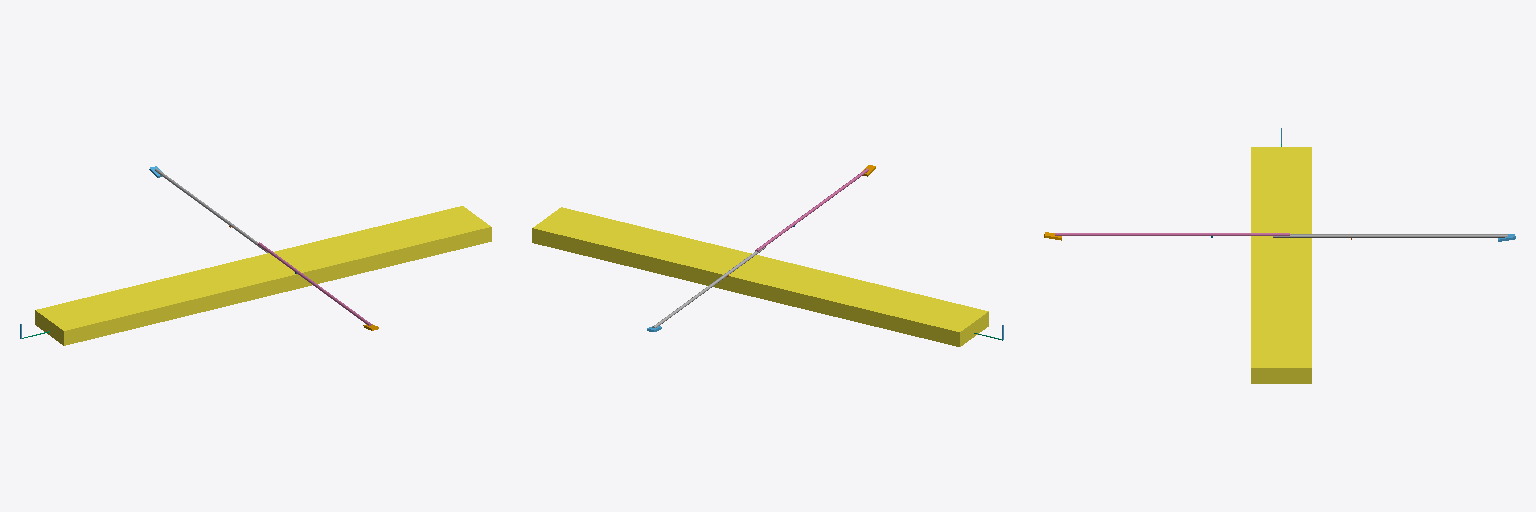
robot.urdf — myboat:
<?xml version="1.0" encoding="utf-8"?>
<!-- =================================================================================== -->
<!-- |    This document was autogenerated by xacro from boot1.xacro                    | -->
<!-- |    EDITING THIS FILE BY HAND IS NOT RECOMMENDED                                 | -->
<!-- =================================================================================== -->
<robot name="myboat" xmlns:xacro="http://www.ros.org/wiki/xacro">
  <!-- Constants for robot dimensions -->
  <gazebo>
    <self_collide>1</self_collide>
  </gazebo>
  <!-- ros_control plugin -->
  <gazebo>
    <plugin filename="libgazebo_ros_control.so" name="gazebo_ros_control">
      <robotNamespace>/boot1</robotNamespace>
      <robotSimType>gazebo_ros_control/DefaultRobotHWSim</robotSimType>
    </plugin>
    <plugin filename="libgazebo_ros_ft_sensor.so" name="sb_rl_sensor">
      <updateRate>10.0</updateRate>
      <topicName>sb_rl_sensor</topicName>
      <jointName>starboard_rowlock</jointName>
    </plugin>
    <plugin filename="libgazebo_ros_ft_sensor.so" name="p_rl_sensor">
      <updateRate>10.0</updateRate>
      <topicName>p_rl_sensor</topicName>
      <jointName>port_rowlock</jointName>
    </plugin>
    <plugin filename="libgazebo_ros_ft_sensor.so" name="sb_oar_sensor">
      <updateRate>10.0</updateRate>
      <topicName>sb_oar_sensor</topicName>
      <jointName>starboard_oar</jointName>
    </plugin>
    <plugin filename="libgazebo_ros_ft_sensor.so" name="p_oar_sensor">
      <updateRate>10.0</updateRate>
      <topicName>p_oar_sensor</topicName>
      <jointName>port_oar</jointName>
      <noise>
        <type>gaussian</type>
        <mean>0.0</mean>
        <stddev>0.003</stddev>
        <!-- change this to simulate noise -->
      </noise>
    </plugin>
    <plugin filename="libgazebo_ros_ft_sensor.so" name="sbb_sensor">
      <updateRate>10.0</updateRate>
      <topicName>sbb_sensor</topicName>
      <jointName>starboard_blade</jointName>
    </plugin>
    <plugin filename="libgazebo_ros_ft_sensor.so" name="pb_sensor">
      <updateRate>10.0</updateRate>
      <topicName>pb_sensor</topicName>
      <jointName>port_blade</jointName>
    </plugin>
  </gazebo>
  <gazebo reference="starboard_rowlock">
    <provideFeedback>true</provideFeedback>
  </gazebo>
  <gazebo reference="port_rowlock">
    <provideFeedback>true</provideFeedback>
  </gazebo>
  <gazebo reference="starboard_oar">
    <provideFeedback>true</provideFeedback>
  </gazebo>
  <gazebo reference="port_oar">
    <provideFeedback>true</provideFeedback>
  </gazebo>
  <gazebo reference="starboard_blade">
    <provideFeedback>true</provideFeedback>
  </gazebo>
  <gazebo reference="port_blade">
    <provideFeedback>true</provideFeedback>
  </gazebo>
  <gazebo reference="skiff">
    <material>Gazebo/Grey</material>
    <mu1>0.01</mu1>
    <mu2>0.01</mu2>
  </gazebo>
  <gazebo reference="starboard_rowlock_l">
    <mu1>0.01</mu1>
    <mu2>0.01</mu2>
    <material>Gazebo/Green</material>
  </gazebo>
  <gazebo reference="port_rowlock_l">
    <mu1>0.01</mu1>
    <mu2>0.01</mu2>
    <material>Gazebo/Red</material>
    <provideFeedback>true</provideFeedback>
  </gazebo>
  <gazebo reference="starboard_oar_l">
    <mu1>0.01</mu1>
    <mu2>0.01</mu2>
    <material>Gazebo/Green</material>
    <provideFeedback>true</provideFeedback>
  </gazebo>
  <gazebo reference="port_oar_l">
    <mu1>0.01</mu1>
    <mu2>0.01</mu2>
    <material>Gazebo/Green</material>
    <provideFeedback>true</provideFeedback>
  </gazebo>
  <gazebo reference="starboard_blade_l">
    <mu1>10.0</mu1>
    <mu2>10.0</mu2>
    <material>Gazebo/Green</material>
    <provideFeedback>true</provideFeedback>
  </gazebo>
  <gazebo reference="port_blade_l">
    <mu1>10.0</mu1>
    <mu2>10.0</mu2>
    <material>Gazebo/Red</material>
    <provideFeedback>true</provideFeedback>
  </gazebo>
  <material name="black">
    <color rgba="0.0 0.0 0.0 1.0"/>
  </material>
  <material name="blue">
    <color rgba="0.0 0.0 0.8 1.0"/>
  </material>
  <material name="green">
    <color rgba="0.0 0.8 0.0 1.0"/>
  </material>
  <material name="grey">
    <color rgba="0.2 0.2 0.2 1.0"/>
  </material>
  <material name="orange">
    <color rgba="1.0 0.423529411765 0.0392156862745 1.0"/>
  </material>
  <material name="brown">
    <color rgba="0.870588235294 0.811764705882 0.764705882353 1.0"/>
  </material>
  <material name="red">
    <color rgba="0.8 0.0 0.0 1.0"/>
  </material>
  <material name="white">
    <color rgba="1.0 1.0 1.0 1.0"/>
  </material>
  <joint name="prism" type="prismatic">
    <parent link="world"/>
    <child link="l1"/>
    <origin rpy="0 0 0" xyz="0 0 0.25"/>
    <axis xyz="1 0 0"/>
    <limit effort="1000.0" lower="-1000" upper="1000" velocity="0.5"/>
  </joint>
  <joint name="rev1" type="revolute">
    <parent link="l1"/>
    <child link="l2"/>
    <origin rpy="0 1.57079632679 0" xyz="0.0 0 -0.2"/>
    <axis xyz="0 1 0"/>
    <limit effort="1000.0" lower="-1" upper="1" velocity="1.0"/>
  </joint>
  <joint name="rev2" type="revolute">
    <parent link="l2"/>
    <child link="skiff"/>
    <origin rpy="3.14159265359 1.57079632679 0" xyz="0.0 0.0 0.4"/>
    <axis xyz="0 1 0"/>
    <limit effort="1000.0" lower="-1" upper="1" velocity="1.0"/>
  </joint>
  <joint name="starboard_rowlock" type="revolute">
    <parent link="skiff"/>
    <child link="starboard_rowlock_l"/>
    <origin rpy="0.0  0.0 0.0" xyz="-3 0.8 0.42"/>
    <axis xyz="0 0 1"/>
    <limit effort="1000.0" lower="-1.4" upper="1.4" velocity="1.0"/>
  </joint>
  <joint name="port_rowlock" type="revolute">
    <parent link="skiff"/>
    <child link="port_rowlock_l"/>
    <origin rpy="0.0  0.0 0.0" xyz="-3 -0.8 0.4"/>
    <axis xyz="0 0 1"/>
    <limit effort="1000.0" lower="-1.4" upper="1.4" velocity="1.0"/>
  </joint>
  <joint name="starboard_oar" type="revolute">
    <parent link="starboard_rowlock_l"/>
    <child link="starboard_oar_l"/>
    <origin rpy="0.0  1.57079632679 -1.57079632679" xyz="0.0 0.0   0.02"/>
    <axis xyz="0 1 0"/>
    <limit effort="1000.0" lower="-0.4" upper="0.0" velocity="1.0"/>
  </joint>
  <joint name="port_oar" type="revolute">
    <parent link="port_rowlock_l"/>
    <child link="port_oar_l"/>
    <origin rpy="0.0  1.57079632679 -1.57079632679" xyz="0.0 0.0   0.02"/>
    <axis xyz="0 1 0"/>
    <limit effort="1000.0" lower="0.0" upper="0.4" velocity="1.0"/>
  </joint>
  <joint name="starboard_blade" type="revolute">
    <parent link="starboard_oar_l"/>
    <child link="starboard_blade_l"/>
    <origin rpy="0 0  0.0" xyz="0.0 0.0   -1.8"/>
    <axis xyz="0 1 0"/>
    <limit effort="1000.0" lower="-0.4" upper="0.4" velocity="1.0"/>
  </joint>
  <joint name="port_blade" type="revolute">
    <parent link="port_oar_l"/>
    <child link="port_blade_l"/>
    <origin rpy="0.0  0 0.0" xyz="0.0 0.0   1.8"/>
    <axis xyz="0 1 0"/>
    <limit effort="1000.0" lower="-0.4" upper="0.4" velocity="1.0"/>
  </joint>
  <link name="world"/>
  <link name="l1">
    <inertial>
      <mass value="0.01"/>
      <origin rpy="0 0 0" xyz="0 0.0 -0.1"/>
      <inertia ixx="0.006" ixy="0" ixz="0" iyy="0.1" iyz="0" izz="0.1"/>
    </inertial>
    <visual>
      <origin rpy="0 0 0" xyz="0.0 0.0 -0.1"/>
      <geometry>
        <box size="0.01 0.01 0.20"/>
      </geometry>
    </visual>
  </link>
  <link name="l2">
    <inertial>
      <mass value="0.01"/>
      <origin rpy="0 0 0" xyz="0 0.0 0.2"/>
      <inertia ixx="0.006" ixy="0" ixz="0" iyy="0.1" iyz="0" izz="0.1"/>
    </inertial>
    <visual>
      <origin rpy="0 0 0" xyz="0.0 0.0 0.2"/>
      <geometry>
        <box size="0.01 0.01 0.40"/>
      </geometry>
    </visual>
  </link>
  <link name="skiff">
    <inertial>
      <mass value="75"/>
      <!-- 15 + 60 voor de roeier -->
      <origin rpy="0 0 0" xyz="-3 0.0 0.05"/>
      <inertia ixx="3.2" ixy="0" ixz="0" iyy="54.2" iyz="0" izz="57"/>
      <!--      <inertia ixx="0.6" ixy="0" ixz="0" iyy="11" iyz="0" izz="11.8"/>  -->
    </inertial>
    <collision>
      <origin rpy="0 0 0" xyz="-3 0.0   0.05"/>
      <geometry>
        <box size="6.0 0.7 0.2"/>
      </geometry>
    </collision>
    <visual>
      <!-- should be a nice skull shape including riggers-->
      <origin rpy="0 0 0" xyz="-3 0.0   0.05"/>
      <geometry>
        <box size="6.0 0.7 0.2"/>
      </geometry>
    </visual>
  </link>
  <link name="starboard_rowlock_l">
    <inertial>
      <mass value="0.1"/>
      <origin rpy="0 0 0" xyz="0.0 0.0 0.0"/>
      <inertia ixx="0.000017" ixy="0" ixz="0" iyy="0.000017" iyz="0" izz="0.000007"/>
    </inertial>
    <collision>
      <origin rpy="0 0 0" xyz="0.0 0.0   0.0"/>
      <geometry>
        <box size="0.02 0.02 0.04"/>
      </geometry>
    </collision>
    <visual>
      <origin rpy="0 0 0" xyz="0.0 0.0   0.0"/>
      <geometry>
        <box size="0.02 0.02 0.04"/>
      </geometry>
    </visual>
  </link>
  <link name="port_rowlock_l">
    <inertial>
      <mass value="0.1"/>
      <origin rpy="0 0 0" xyz="0.0 0.0 0.0"/>
      <inertia ixx="0.000017" ixy="0" ixz="0" iyy="0.000017" iyz="0" izz="0.000007"/>
    </inertial>
    <collision>
      <origin rpy="0 0 0" xyz="0.0 0.0   0.0"/>
      <geometry>
        <box size="0.02 0.02 0.04"/>
      </geometry>
    </collision>
    <visual>
      <origin rpy="0 0 0" xyz="0.0 0.0   0.0"/>
      <geometry>
        <box size="0.02 0.02 0.04"/>
      </geometry>
    </visual>
  </link>
  <link name="starboard_oar_l">
    <inertial>
      <mass value="1.0"/>
      <origin rpy="0 0 0" xyz="0 0 -0.45"/>
      <inertia ixx="0.6" ixy="0" ixz="0" iyy="0.6" iyz="0" izz="0.001"/>
    </inertial>
    <collision>
      <origin rpy="0 0 0" xyz="0   0   -0.45"/>
      <geometry>
        <cylinder length="2.0" radius="0.02"/>
      </geometry>
    </collision>
    <visual>
      <origin rpy="0 0 0" xyz="0   0.0   -0.45"/>
      <geometry>
        <cylinder length="2.7" radius="0.02"/>
      </geometry>
    </visual>
  </link>
  <link name="port_oar_l">
    <inertial>
      <mass value="1.0"/>
      <origin rpy="0 0 0" xyz="0 0 0.45"/>
      <inertia ixx="0.6" ixy="0" ixz="0" iyy="0.6" iyz="0" izz="0.001"/>
    </inertial>
    <collision>
      <origin rpy="0 0 0" xyz="0   0   0.45"/>
      <geometry>
        <cylinder length="2.0" radius="0.02"/>
        <!-- 2.0 to prevent collissions  -->
      </geometry>
    </collision>
    <visual>
      <origin rpy="0 0 0" xyz="0   0   0.45"/>
      <geometry>
        <cylinder length="2.7" radius="0.02"/>
      </geometry>
    </visual>
  </link>
  <link name="starboard_blade_l">
    <inertial>
      <mass value="1.0"/>
      <origin rpy="0 -1.4 0" xyz="0.02 0 -0.02"/>
      <inertia ixx="0.0009" ixy="0" ixz="0" iyy="0.0034" iyz="0" izz="0.004"/>
    </inertial>
    <collision>
      <origin rpy="0 -1.4 0" xyz="0.02    0   -0.02"/>
      <geometry>
        <box size="0.2 0.1 0.03"/>
      </geometry>
    </collision>
    <visual>
      <origin rpy="0 -1.4 0" xyz="0.02    0   -0.02"/>
      <geometry>
        <box size="0.2 0.1 0.03"/>
      </geometry>
    </visual>
  </link>
  <link name="port_blade_l">
    <inertial>
      <mass value="1.0"/>
      <origin rpy="0 1.4 0" xyz="0.02 0 -0.02"/>
      <inertia ixx="0.0009" ixy="0" ixz="0" iyy="0.0034" iyz="0" izz="0.004"/>
    </inertial>
    <collision>
      <origin rpy="0 1.4 0" xyz="0.02    0   -0.02"/>
      <geometry>
        <box size="0.2 0.1 0.03"/>
      </geometry>
    </collision>
    <visual>
      <origin rpy="0 1.4 0" xyz="0.02    0.0  -0.02"/>
      <geometry>
        <box size="0.2 0.1 0.03"/>
      </geometry>
    </visual>
  </link>
  <transmission name="tran1">
    <type>transmission_interface/SimpleTransmission</type>
    <joint name="starboard_rowlock">
      <hardwareInterface>hardware_interface/EffortJointInterface</hardwareInterface>
    </joint>
    <actuator name="motor1">
      <mechanicalReduction>1</mechanicalReduction>
    </actuator>
  </transmission>
  <transmission name="tran2">
    <type>transmission_interface/SimpleTransmission</type>
    <joint name="port_rowlock">
      <hardwareInterface>hardware_interface/EffortJointInterface</hardwareInterface>
    </joint>
    <actuator name="motor2">
      <mechanicalReduction>1</mechanicalReduction>
    </actuator>
  </transmission>
  <transmission name="tran3">
    <type>transmission_interface/SimpleTransmission</type>
    <joint name="starboard_oar">
      <hardwareInterface>hardware_interface/EffortJointInterface</hardwareInterface>
    </joint>
    <actuator name="motor3">
      <mechanicalReduction>1</mechanicalReduction>
    </actuator>
  </transmission>
  <transmission name="tran4">
    <type>transmission_interface/SimpleTransmission</type>
    <joint name="port_oar">
      <hardwareInterface>hardware_interface/EffortJointInterface</hardwareInterface>
    </joint>
    <actuator name="motor4">
      <mechanicalReduction>1</mechanicalReduction>
    </actuator>
  </transmission>
  <transmission name="tran5">
    <type>transmission_interface/SimpleTransmission</type>
    <joint name="starboard_blade">
      <hardwareInterface>hardware_interface/EffortJointInterface</hardwareInterface>
    </joint>
    <actuator name="motor5">
      <mechanicalReduction>1</mechanicalReduction>
    </actuator>
  </transmission>
  <transmission name="tran6">
    <type>transmission_interface/SimpleTransmission</type>
    <joint name="port_blade">
      <hardwareInterface>hardware_interface/EffortJointInterface</hardwareInterface>
    </joint>
    <actuator name="motor6">
      <mechanicalReduction>1</mechanicalReduction>
    </actuator>
  </transmission>
</robot>

--- Render facts (derived) ---
3 views of the same robot in one strip: view 1: azimuth 30°, elevation 25°; view 2: azimuth 150°, elevation 25°; view 3: azimuth 270°, elevation 25° (orthographic).
Model myboat with 10 links and 9 joints (8 revolute, 1 prismatic), rooted at world, posed all joints at 0.
Visible links, largest first — view 1: skiff; view 2: skiff; view 3: skiff, port_oar_l, starboard_oar_l.
Link boxes in pixels (x1,y1,x2,y2): skiff: [35, 206, 491, 345]; skiff: [532, 207, 988, 346]; skiff: [1251, 147, 1311, 383]; port_oar_l: [1273, 234, 1507, 237]; starboard_oar_l: [1055, 233, 1289, 235].
Bounding box of the posed robot: 6.41 × 5.4 × 0.51 m (x, y, z).
Geometry: primitives only (box / cylinder / sphere), no mesh files.